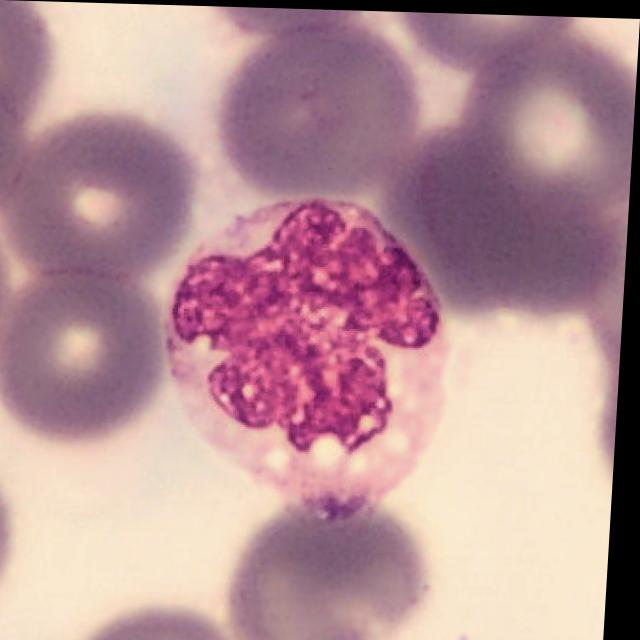Monocito: (168, 193, 455, 517)
